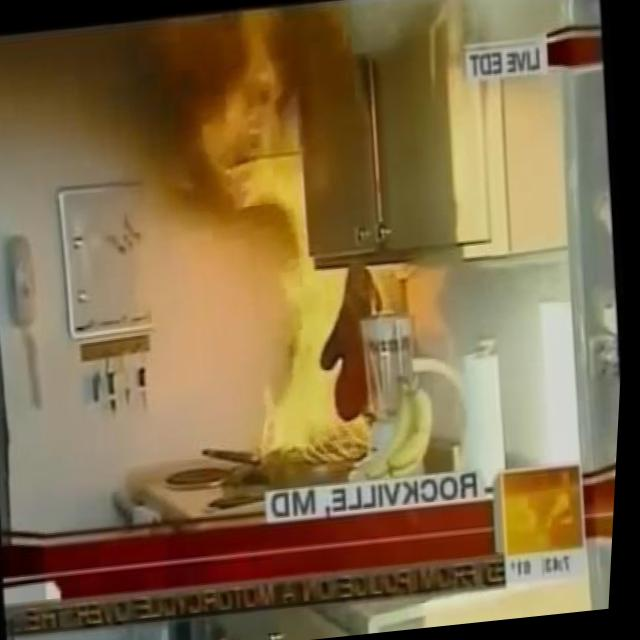fire: (178, 1, 401, 468)
